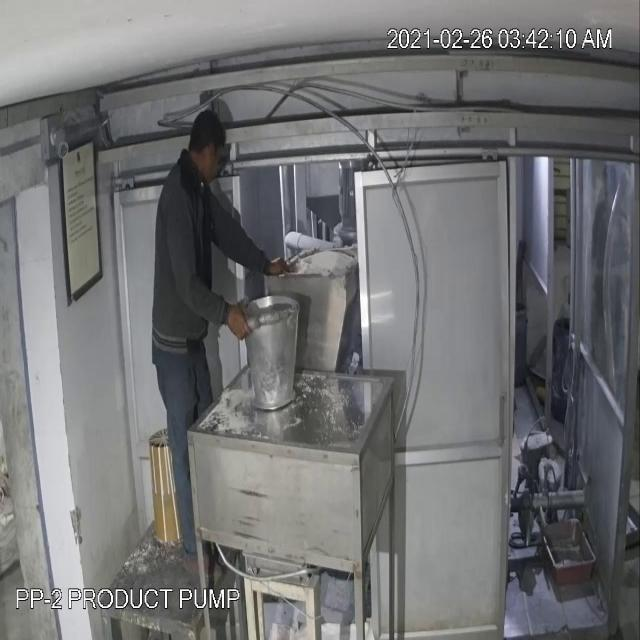no-helmet: (184, 106, 228, 188)
